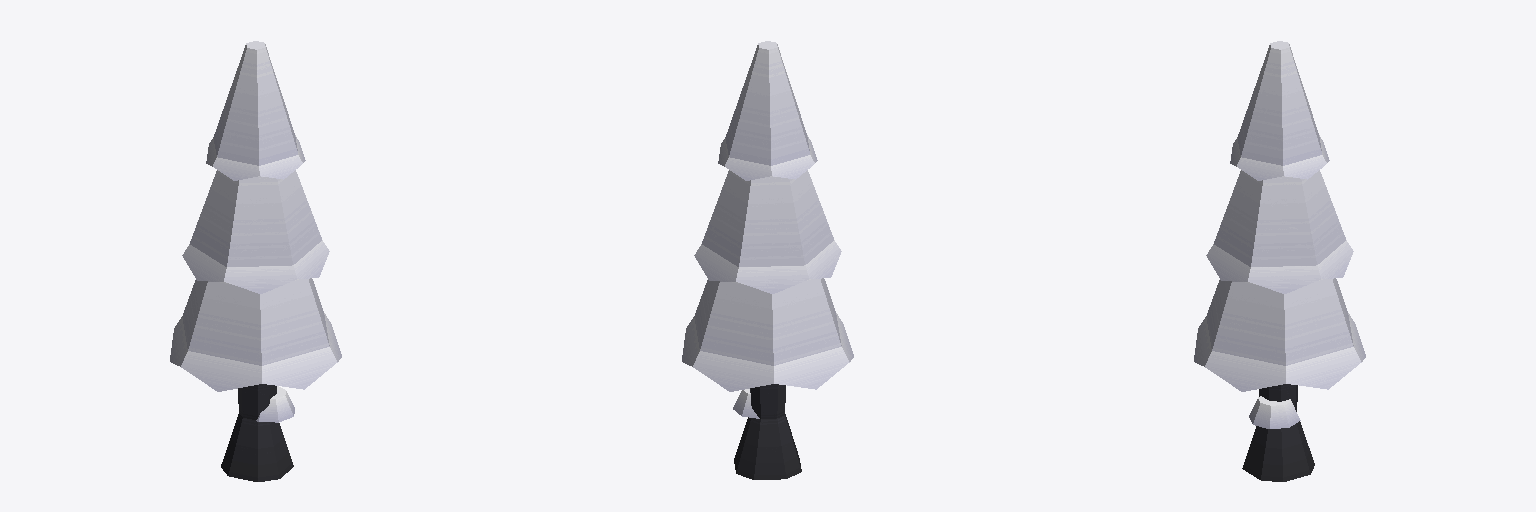
The picture shows the model from 3 angles: view 1: azimuth 30°, elevation 25°; view 2: azimuth 150°, elevation 25°; view 3: azimuth 270°, elevation 25°; orthographic projection.
Visible parts, largest first — view 1: tree.025; view 2: tree.025; view 3: tree.025.
Part boxes in pixels (x1,y1,x2,y2): tree.025: (170,41,341,481); tree.025: (682,41,853,479); tree.025: (1194,41,1365,481).
Size of the model in its own units: 1.36 by 3.47 by 1.29.
1 materials, 1 textured.